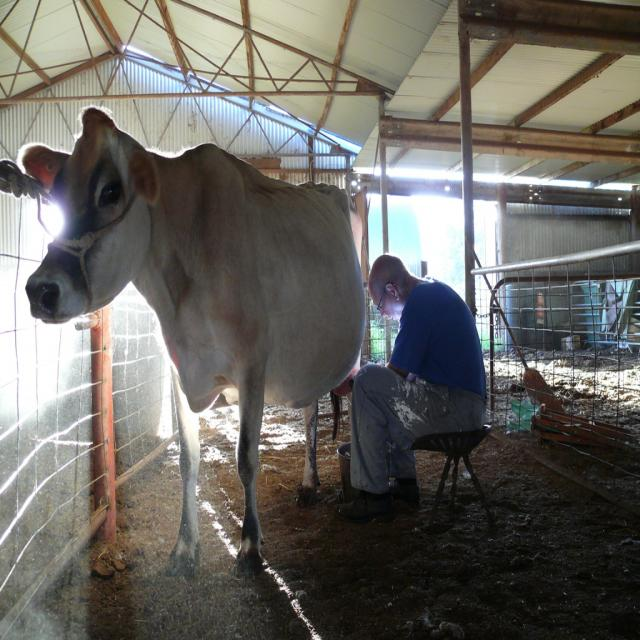Cattle: (16, 107, 368, 584)
